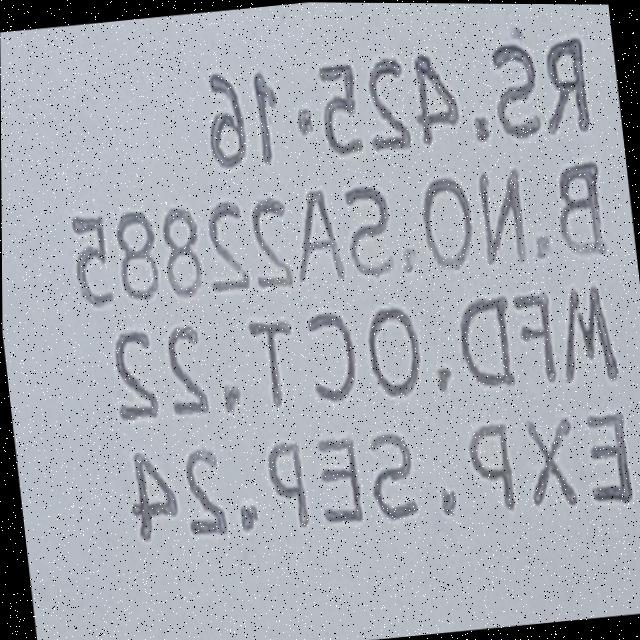sentence: (72, 159, 605, 306), (130, 410, 631, 543), (162, 285, 618, 416), (209, 37, 590, 168), (118, 331, 160, 418), (566, 289, 578, 380)
